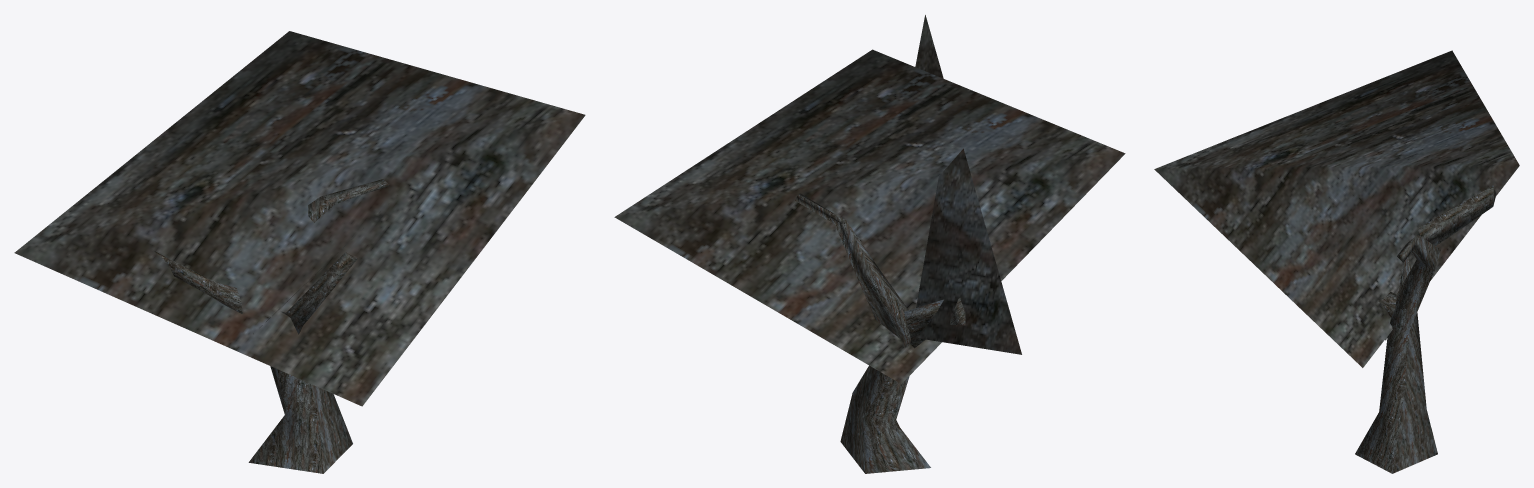
File: psx_tree2.glb
The picture shows the model from 3 angles, left to right: view 1: azimuth 30°, elevation 25°; view 2: azimuth 150°, elevation 25°; view 3: azimuth 270°, elevation 25°; orthographic projection. The views are drawn at different scales.
Visible parts, largest first — view 1: _MeshInstance3D_8; view 2: _MeshInstance3D_8; view 3: _MeshInstance3D_8.
Part boxes in pixels (x1,y1,x2,y2): _MeshInstance3D_8: [14, 31, 585, 473]; _MeshInstance3D_8: [614, 15, 1125, 473]; _MeshInstance3D_8: [1154, 50, 1519, 473].
Size of the model in its own units: 21.13 by 18.61 by 14.48.
Materials: 1 (1 with a texture image).
